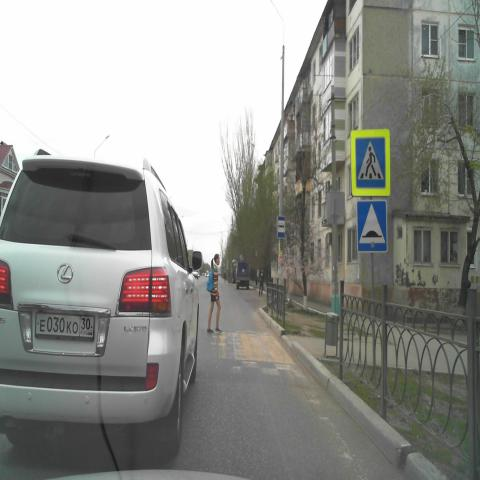5_16: (278, 216, 286, 239)
5_19_1: (351, 130, 391, 196)
5_20: (356, 201, 388, 251)
